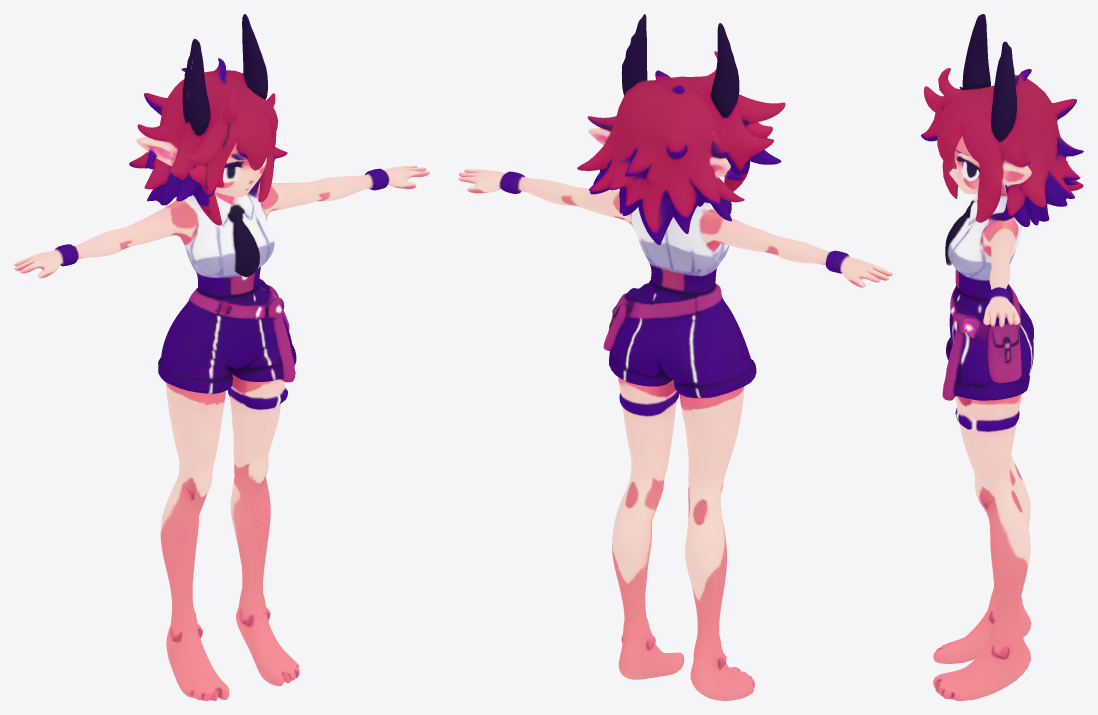
The model's file is RedhornV6_Source.fbx.
3 renders of one model, left to right at view 1: azimuth 30°, elevation 25°; view 2: azimuth 150°, elevation 25°; view 3: azimuth 270°, elevation 25°, orthographic. The views are drawn at different scales.
Visible parts, largest first — view 1: root.2, root.1, root.0, root.3; view 2: root.2, root.1, root.0, root.3; view 3: root.2, root.1, root.3, root.0.
Boxes of the visible parts, x1,y1,x2,y2 form: root.2: (14, 142, 429, 700); root.1: (129, 58, 287, 225); root.0: (182, 39, 210, 134); root.3: (242, 14, 267, 99); root.2: (458, 169, 892, 700); root.1: (577, 51, 785, 244); root.0: (711, 23, 739, 117); root.3: (621, 14, 647, 95); root.2: (933, 136, 1033, 700); root.1: (921, 68, 1083, 226); root.3: (991, 41, 1016, 140); root.0: (962, 14, 990, 89).
Size of the model in its own units: 126 by 189 by 43.2.
